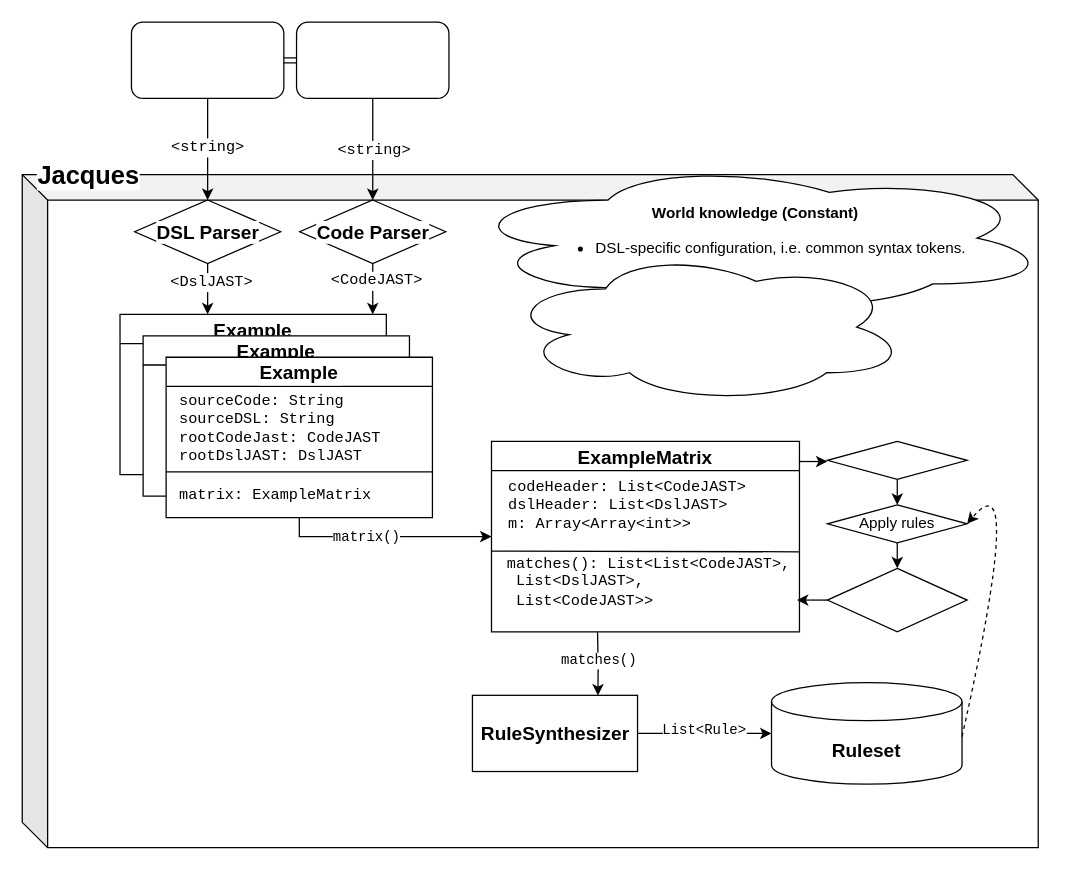
The diagram is 1073 pixels wide and 870 high, and some of its shapes have lost their labels. The shapes that lost their labels are listed below. From the top down, each one's centre as x and y in pixels, then its label:
the point at 207,59: DSL example
the point at 372,59: Code example
the point at 705,326: Problem knowledge (Dynamic) Encountered object names
the point at 896,459: Apply insights
the point at 896,599: Cross-compare arguments
